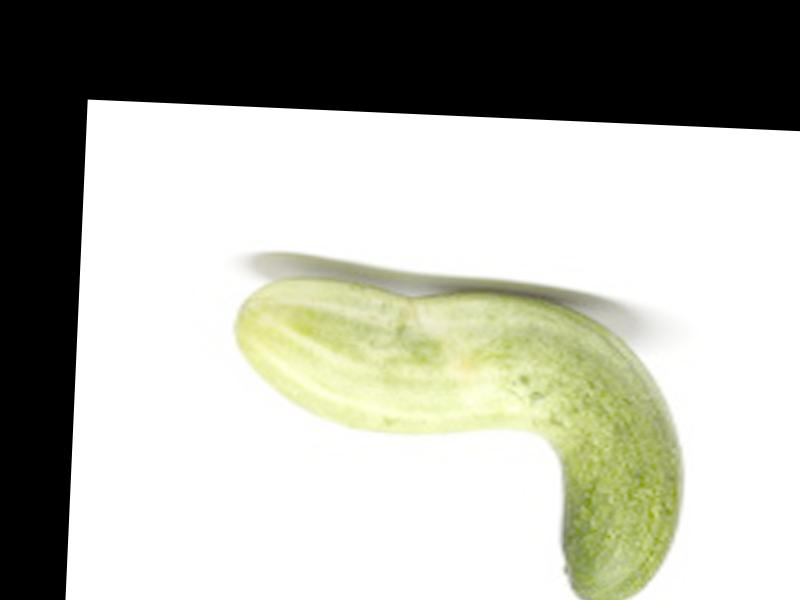Cucumber: (221, 272, 693, 600)
